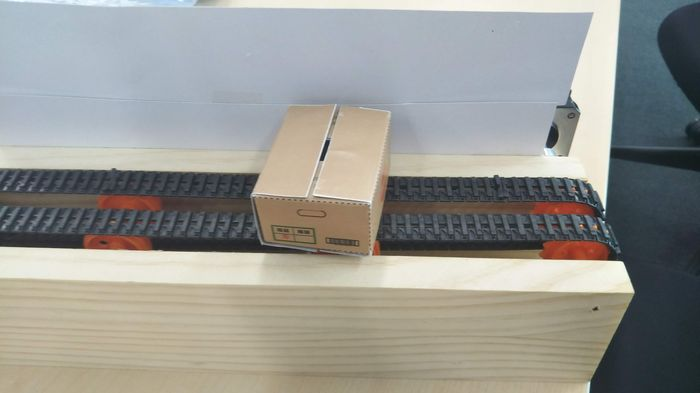box1: (246, 101, 393, 257)
